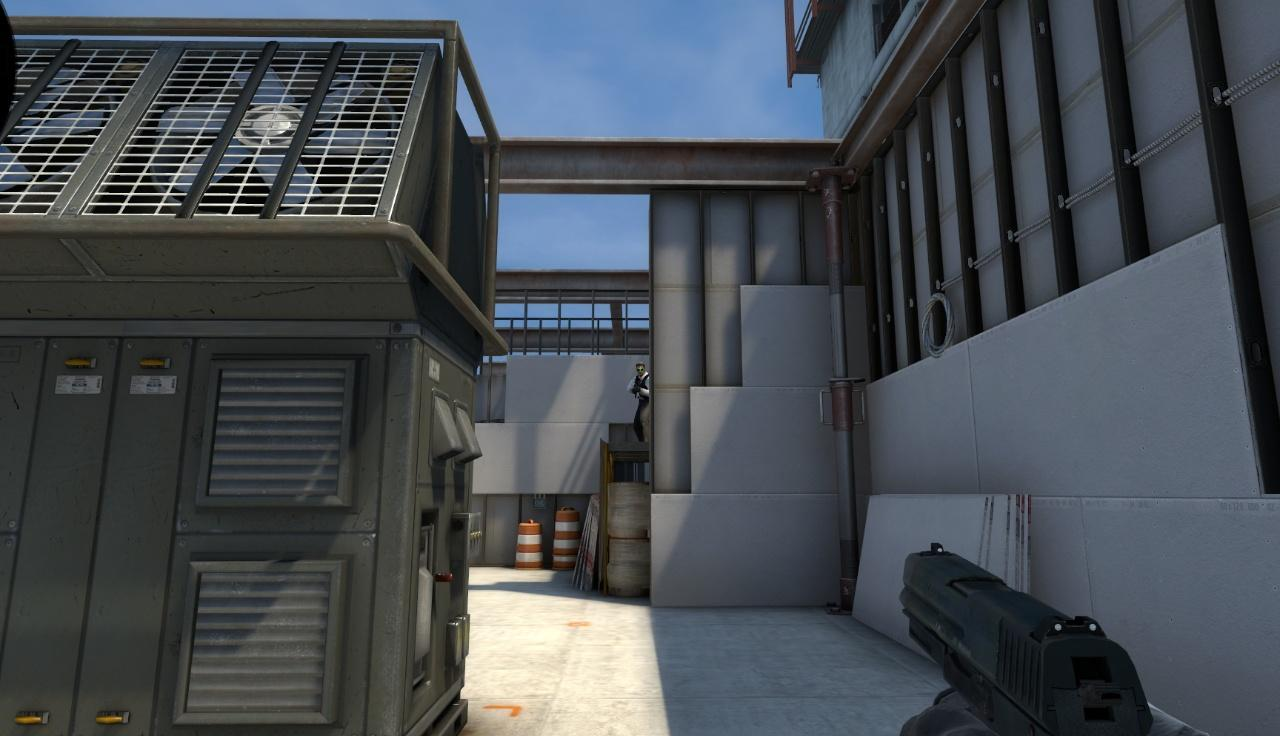pistol: (893, 542, 1158, 736)
tt: (627, 362, 652, 445)
tthead: (635, 363, 645, 375)
